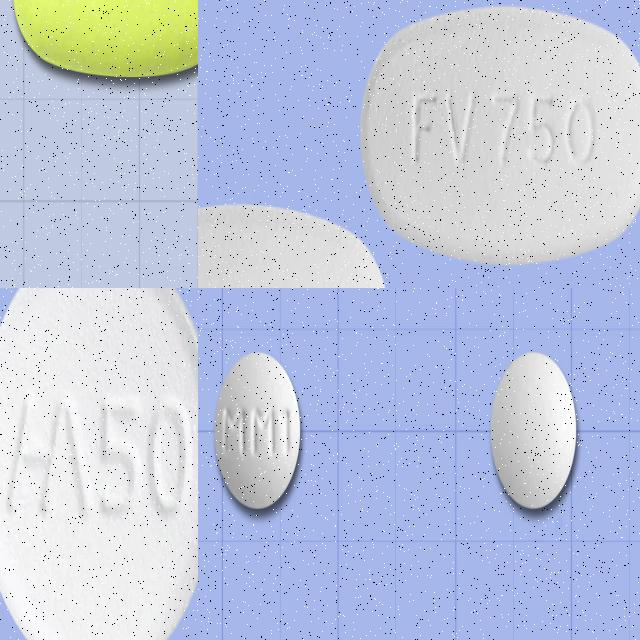Famvir -750mg: (360, 2, 640, 265), (198, 200, 393, 288)
Herfam: (0, 288, 198, 640)
Klaricid-Xl: (11, 0, 198, 78)
Leflunomide - 20mg: (489, 350, 578, 511), (214, 350, 302, 510)
